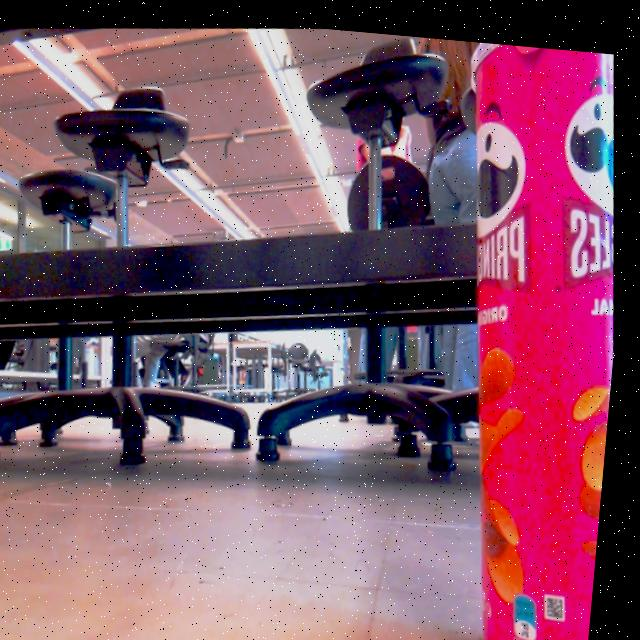redpringles: (400, 31, 640, 640)
